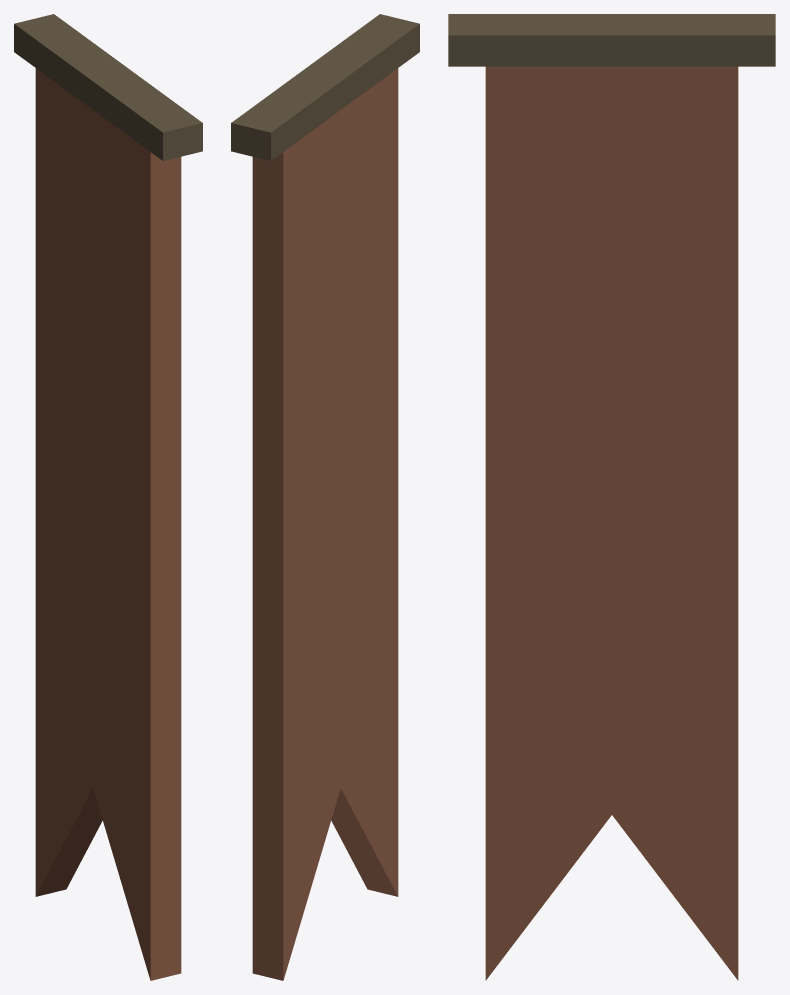
File: Background_flag_fixed.glb
3 renders of one model, left to right at view 1: azimuth 30°, elevation 25°; view 2: azimuth 150°, elevation 25°; view 3: azimuth 270°, elevation 25°, orthographic. The views are drawn at different scales.
Visible parts, largest first — view 1: Cube.003; view 2: Cube.003; view 3: Cube.003.
Boxes of the visible parts, x1,y1,x2,y2 form: Cube.003: [14, 14, 202, 980]; Cube.003: [231, 14, 419, 980]; Cube.003: [448, 14, 775, 980].
Bounding box in the file's own units: 0.801 × 16.57 × 5.19.
